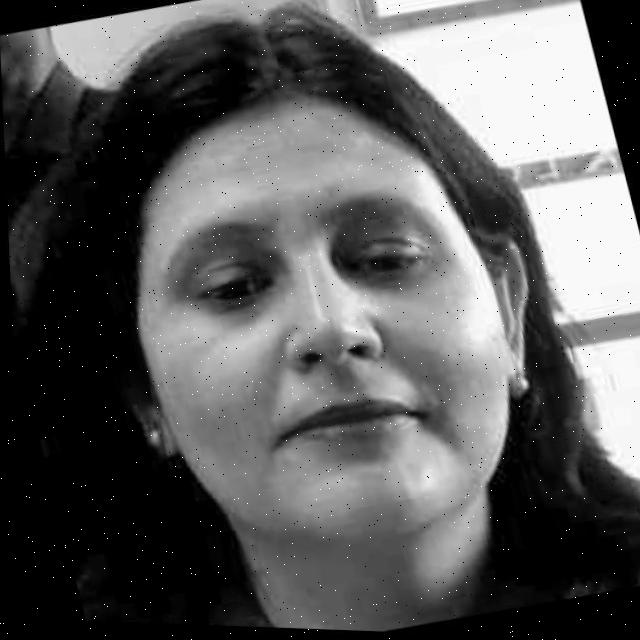puffy_eyes: (344, 265, 429, 292)
